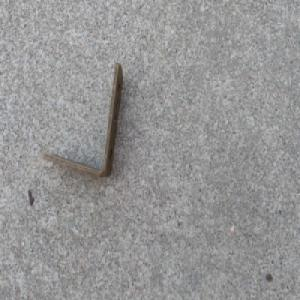MetalPart: (41, 59, 123, 180)
